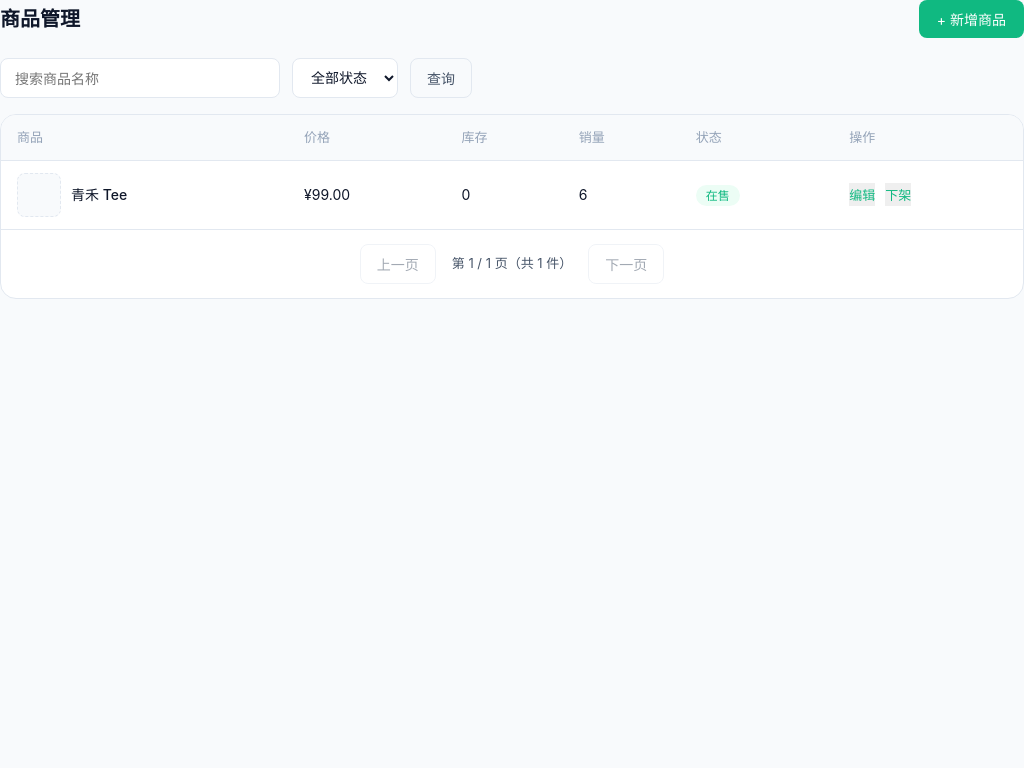
Test: merchant/Products 商品管理 › 编辑：规格拉取失败仍打开弹窗并保留空白规格行
This screenshot has width=1024, height=768.
Click the button with class "link-btn" showing "编辑" at point(862, 195), box [849,183,875,206]
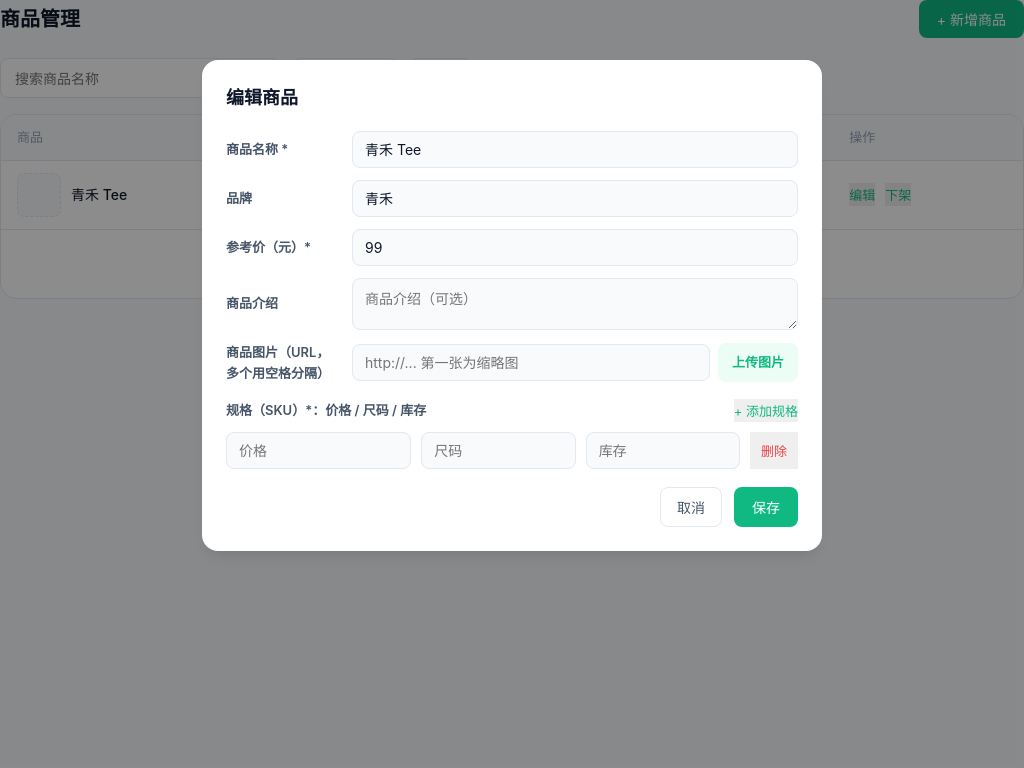
Result: the element with class "modal-overlay" is shown
Result: the number of elements with class "sku-row" is 1 at [226,432,798,469]
Result: the number field with class "sku-price" is empty at [226,432,411,469]
